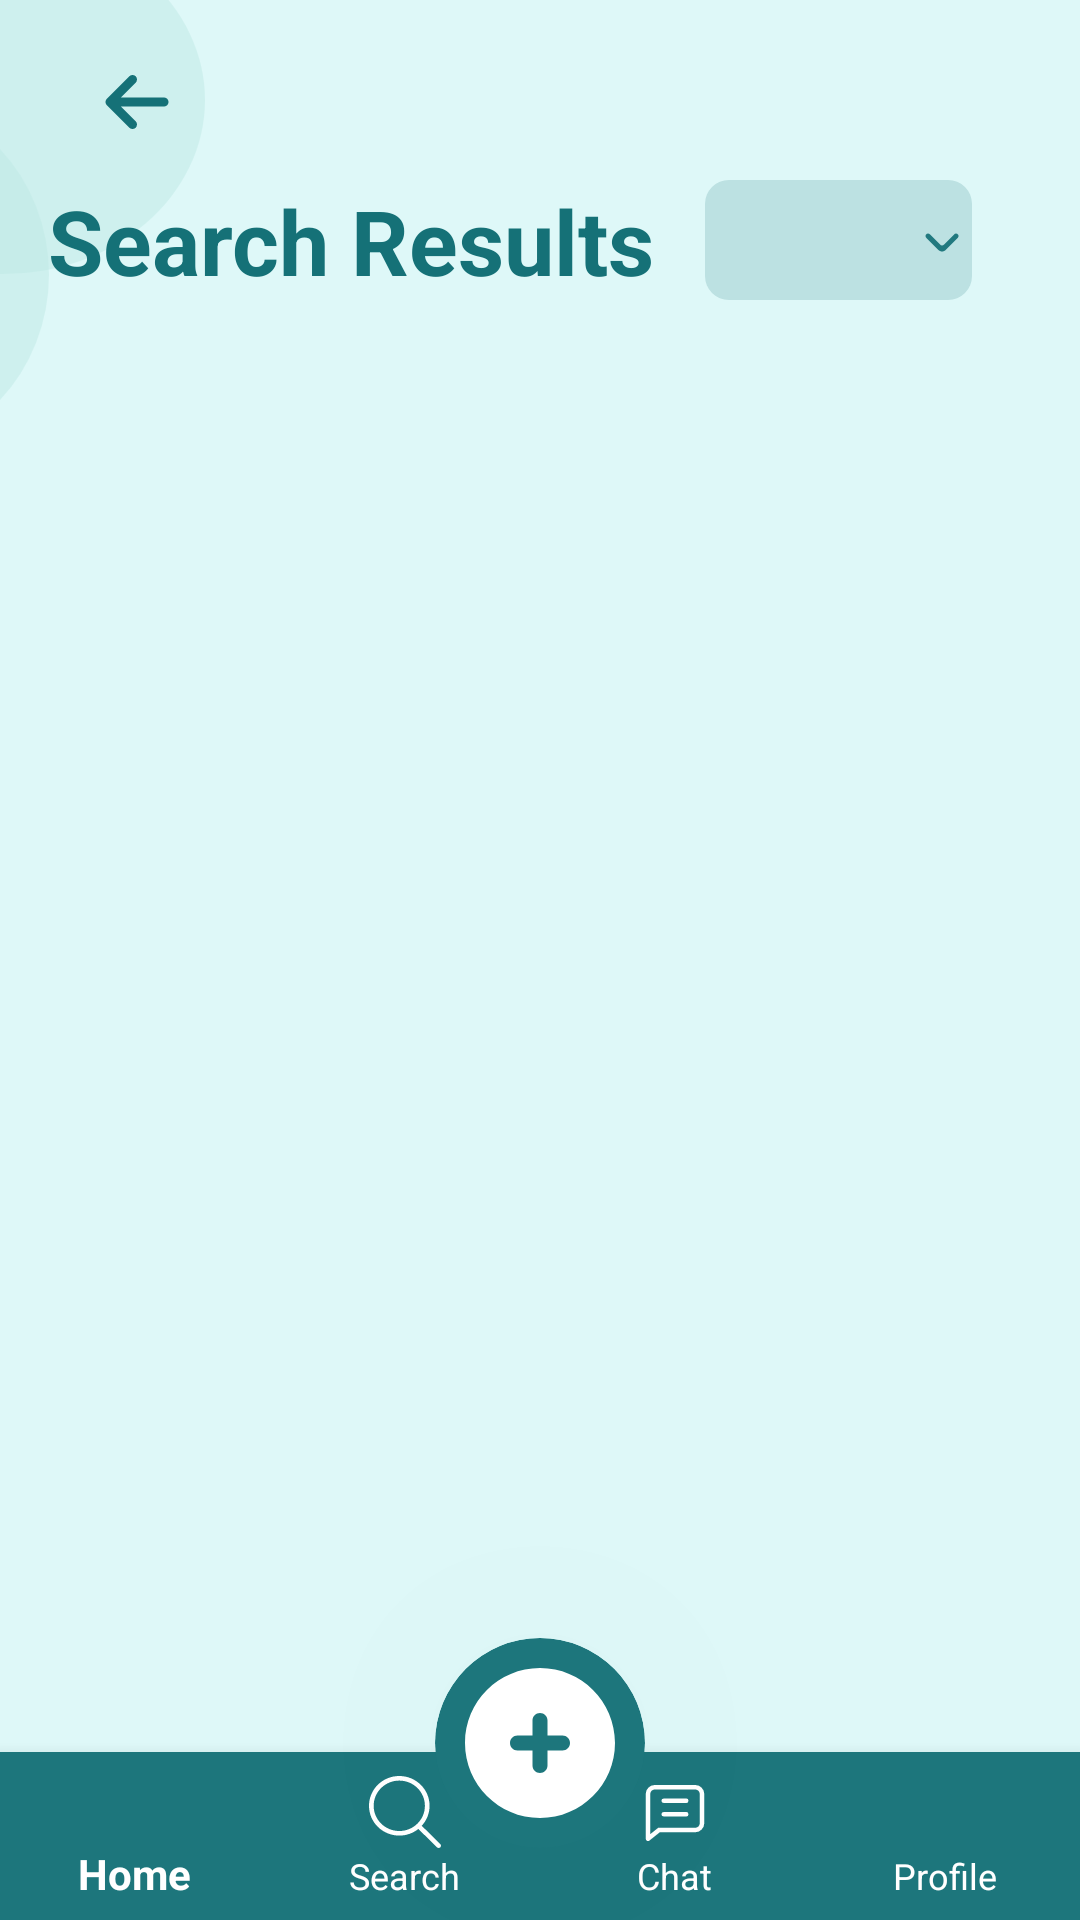

Point at icon controls on the screen. Image size 1080px x 1920px, points as [x,y].
leftarrow: [137,102]
plussvg: [540,1743]
